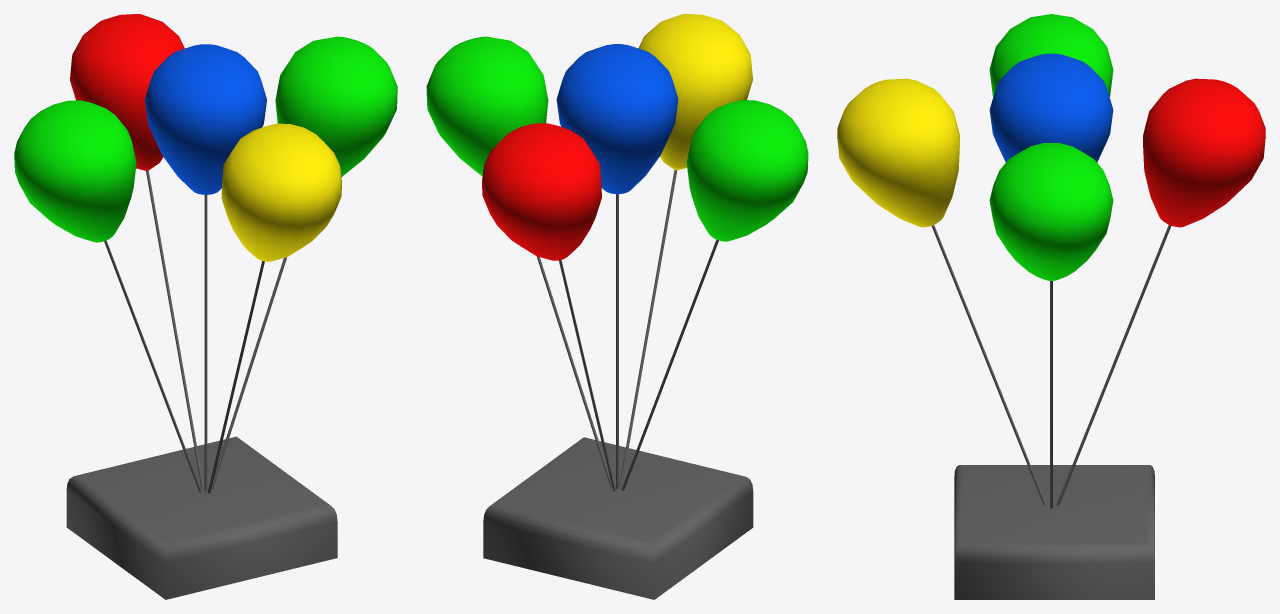
Rendered from 05 Balloons.FBX.
The picture shows the model from 3 angles, left to right: view 1: azimuth 30°, elevation 25°; view 2: azimuth 150°, elevation 25°; view 3: azimuth 270°, elevation 25°; orthographic projection.
Visible parts, largest first — view 1: Balloons; view 2: Balloons; view 3: Balloons.
Part boxes in pixels (box(x1,y1,x2,y2)): Balloons: box(14, 14, 397, 599); Balloons: box(426, 14, 808, 599); Balloons: box(837, 14, 1265, 599).
Bounding box in the file's own units: 1430 × 1839 × 1430.
